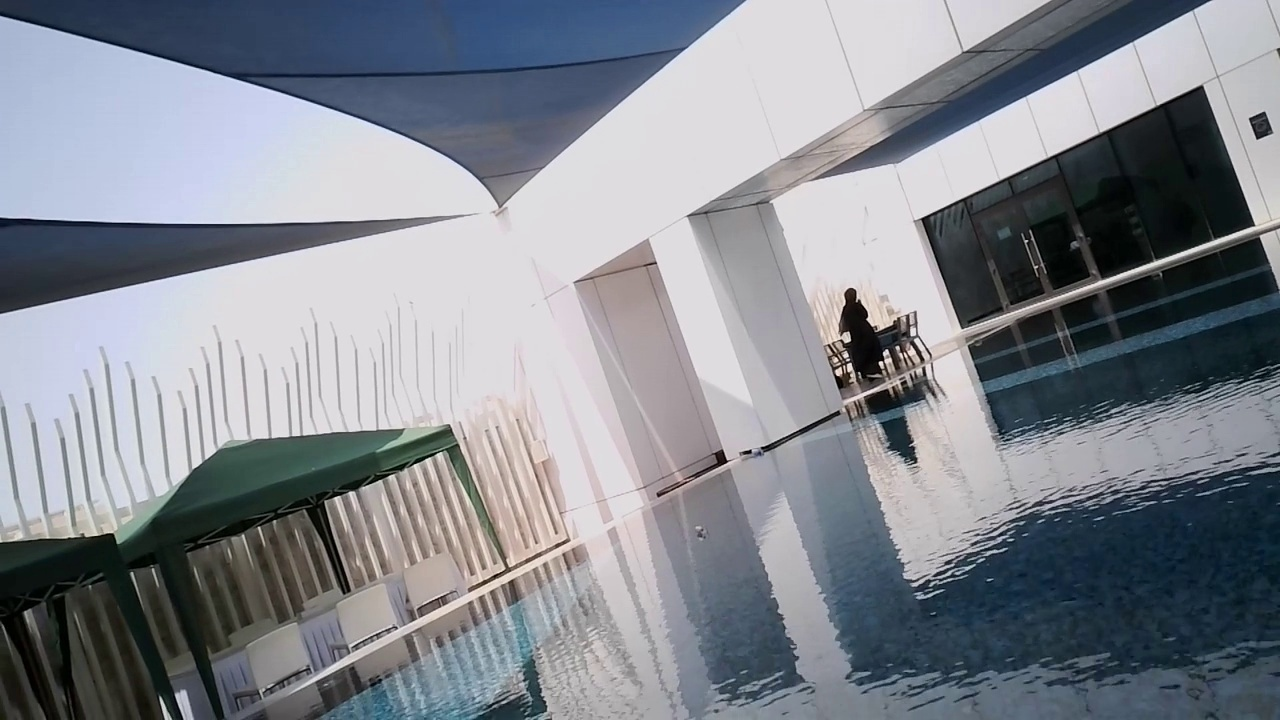debris: (690, 518, 710, 541), (747, 445, 767, 458), (968, 334, 981, 349), (1148, 267, 1160, 281)
